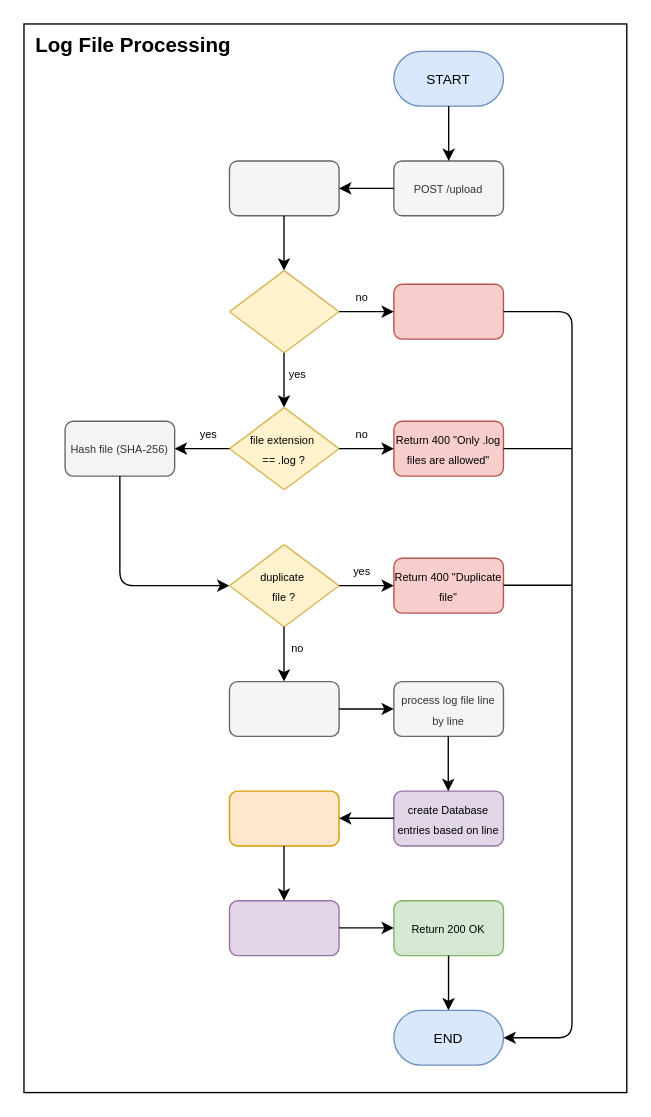
The diagram is 651 pixels wide and 1117 high, and some of its shapes have lost their labels. The shapes that lost their labels are listed below. From the top down, each one's centre as x and y in pixels, then its label:
pixel 283 188: Receive File, source, Uploaded By
pixel 283 311: file present ?
pixel 448 311: Return 400 "Please upload a file"
pixel 283 708: write file to temp path
pixel 283 818: call detect_incidents()
pixel 283 927: create Database entry for file with metadata
